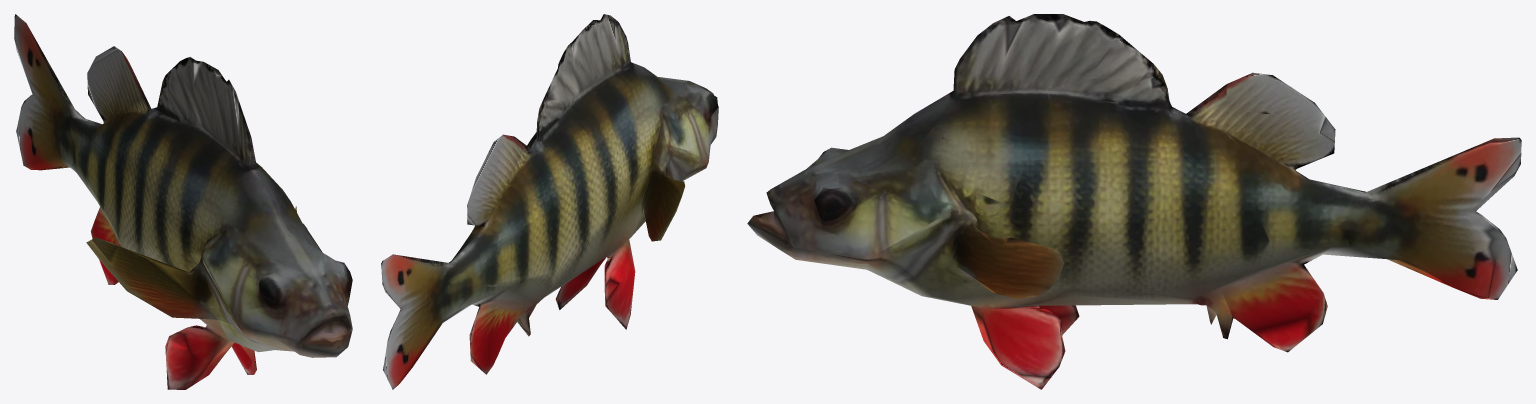
The model's file is perch_lo.glb.
The picture shows the model from 3 angles, left to right: view 1: azimuth 30°, elevation 25°; view 2: azimuth 150°, elevation 25°; view 3: azimuth 270°, elevation 25°; orthographic projection. The views are drawn at different scales.
Parts seen in each view (by area): view 1: geometry_0; view 2: geometry_0; view 3: geometry_0.
Part boxes in pixels (x1=…): geometry_0: x1=14, y1=14, x2=352, y2=389; geometry_0: x1=381, y1=14, x2=718, y2=389; geometry_0: x1=747, y1=14, x2=1521, y2=389.
Bounding box in the file's own units: 0.3394 × 0.51 × 1.
Materials: 1 (1 with a texture image).
